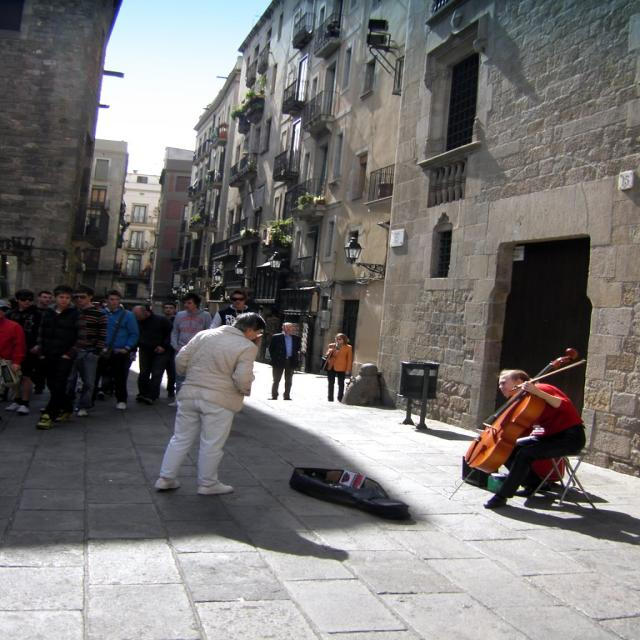cello: (458, 342, 582, 480)
